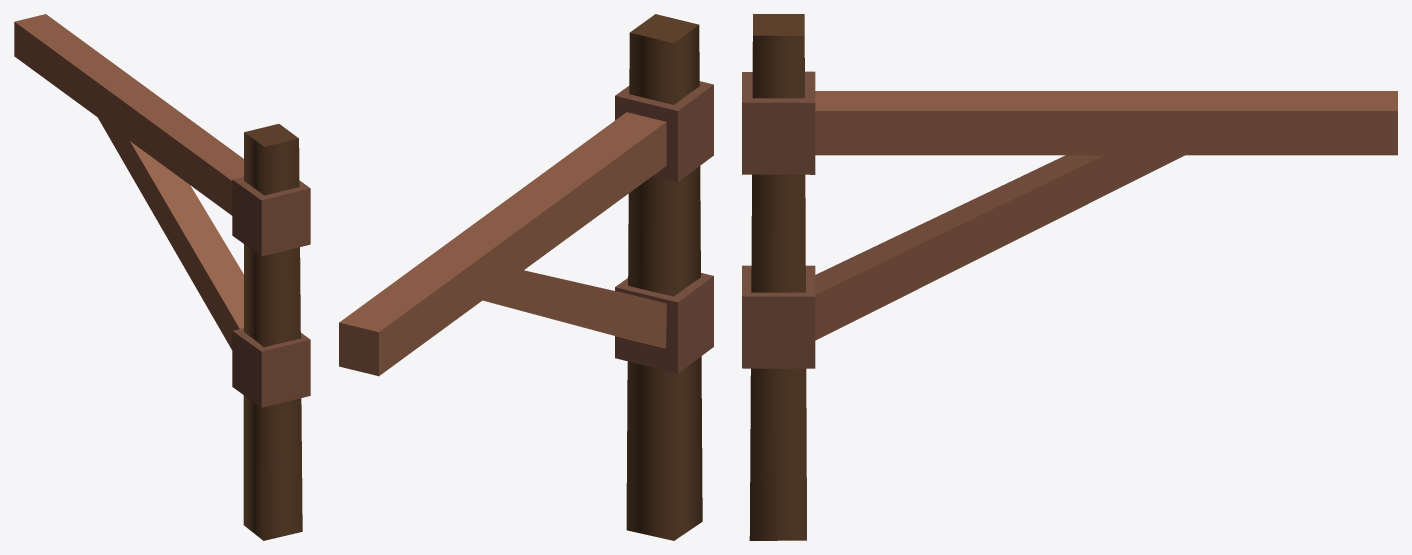
Rendered from SignHolder_6_C.fbx.
The picture shows the model from 3 angles, left to right: view 1: azimuth 30°, elevation 25°; view 2: azimuth 150°, elevation 25°; view 3: azimuth 270°, elevation 25°; orthographic projection. The views are drawn at different scales.
Visible parts, largest first — view 1: SignHolder_6_C; view 2: SignHolder_6_C; view 3: SignHolder_6_C.
Part boxes in pixels (<box>): SignHolder_6_C: <box>14,14,310,540</box>; SignHolder_6_C: <box>339,14,713,540</box>; SignHolder_6_C: <box>742,14,1397,540</box>.
Size of the model in its own units: 7.8 by 58.7 by 69.26.
